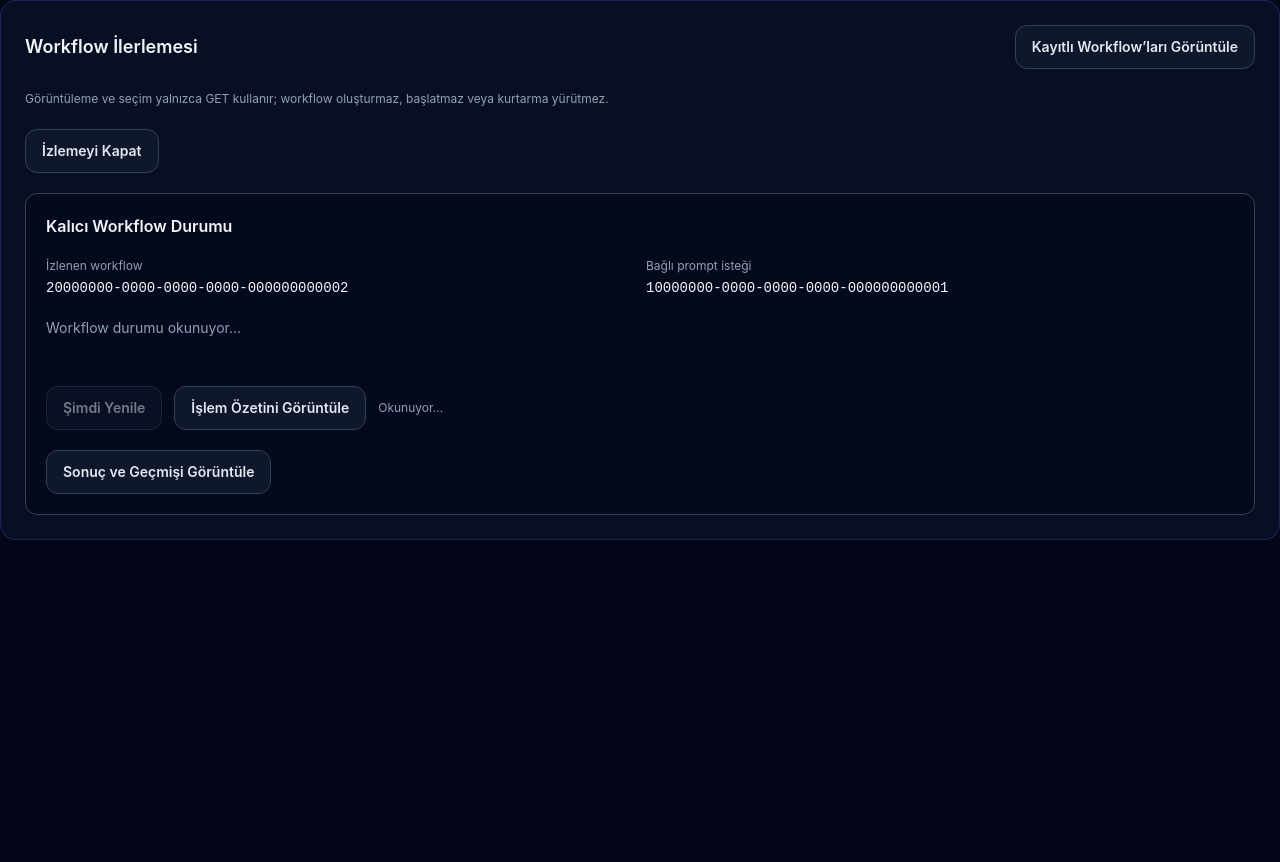
it: visible persisted workflow monitoring › fetches metadata only on request, never content or result, without logging private errors
What coordinates should you click on to do the following:
click the button "İşlem Özetini Görüntüle"
I would click on:
 (270, 408)
Its box is [174, 386, 366, 430].
Wait 1 ms
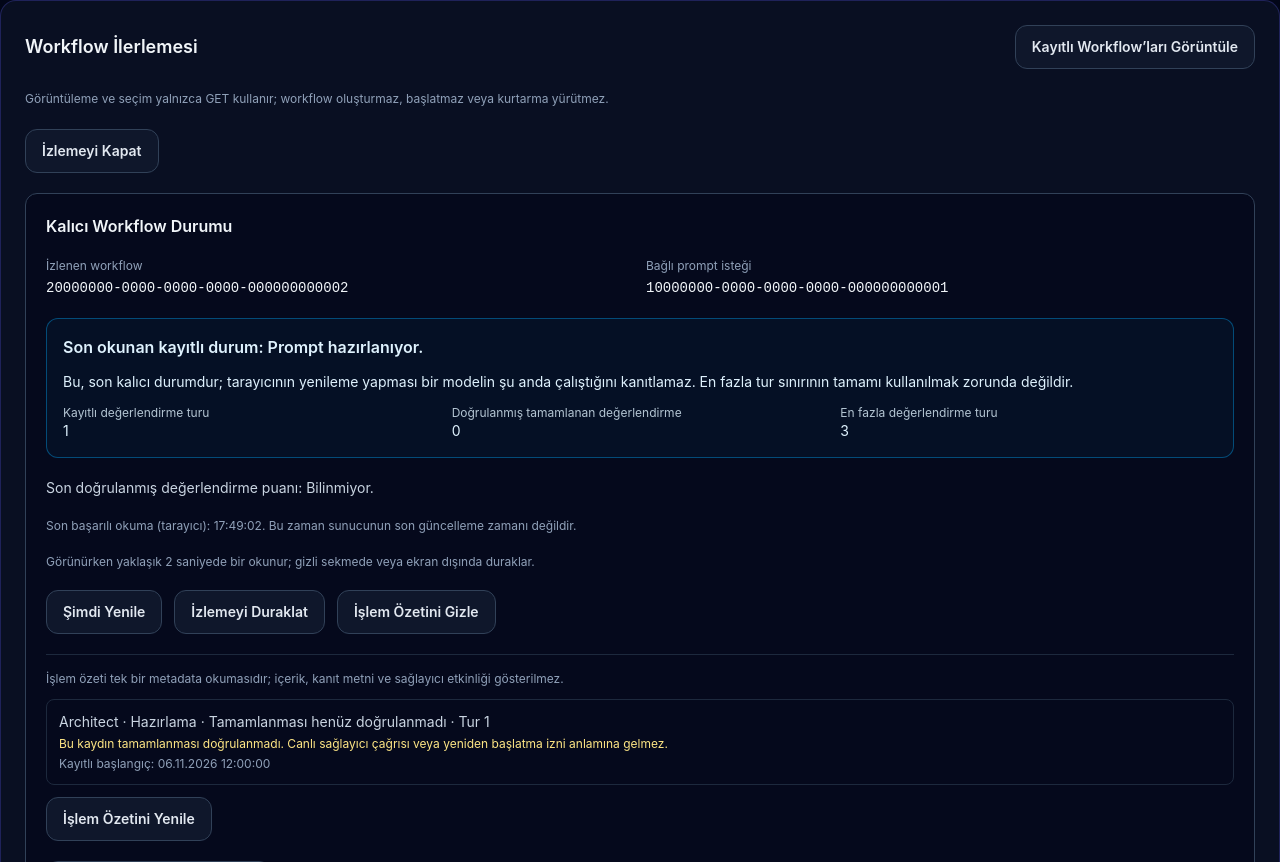
Expected: the list item "Architect · Hazırlama" is shown, [59, 713, 197, 730]
Expected: the text "Canlı sağlayıcı çağrısı veya yeniden başlatma izni anlamına gelmez" is shown, [59, 736, 668, 751]
